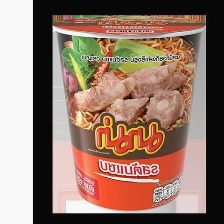paper_cup: (52, 14, 206, 212)
